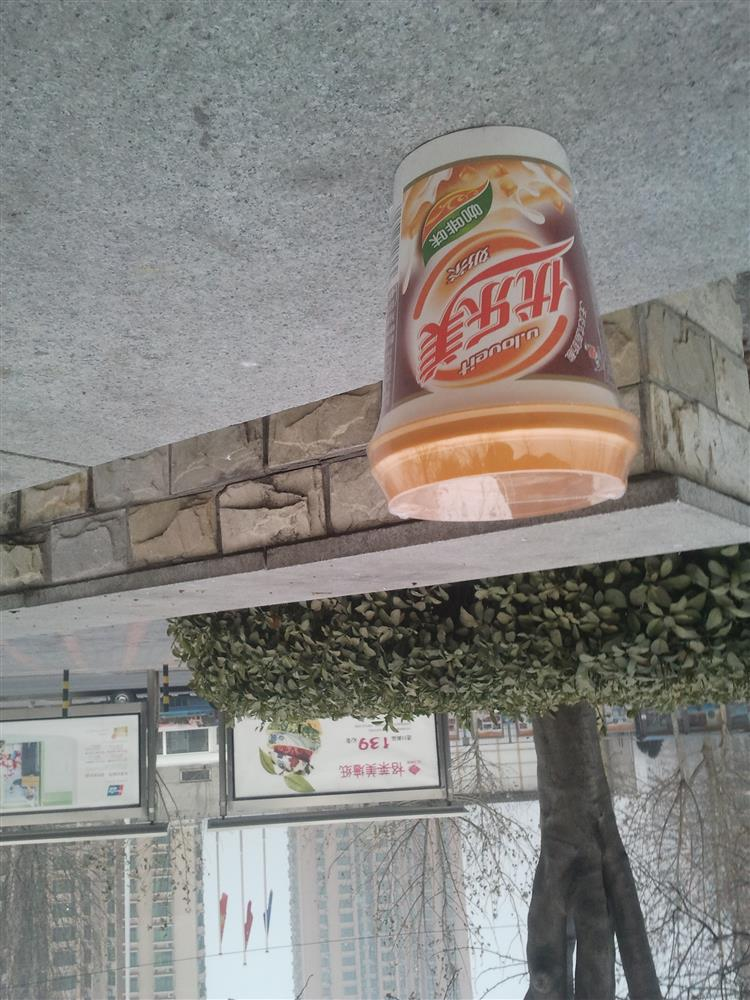u_loveit: (374, 123, 642, 520)
